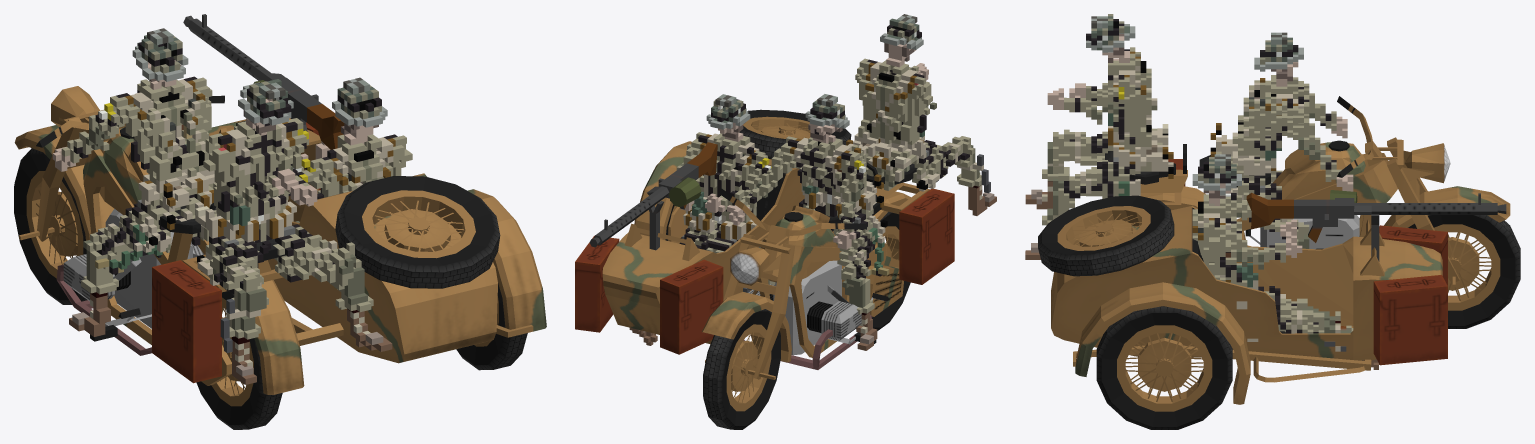
File: sidecar_german.glb
3 renders of one model, left to right at view 1: azimuth 30°, elevation 25°; view 2: azimuth 150°, elevation 25°; view 3: azimuth 270°, elevation 25°, orthographic. The views are drawn at different scales.
Visible parts, largest first — view 1: 03_chassis_sidecar_german_chassis.mesh, crew_soldier_SLOT_02_PASSENGER, crew_soldier_SLOT_00_DRIVER, crew_soldier_SLOT_01_GUNNER, 00_tire_index_1_sidecar_german_wheel.mesh, 02_tire_index_3_sidecar_german_wheel.mesh, weapon_turret_1_sidecar_german_mg.mesh, 01_tire_index_2_sidecar_german_wheel.mesh; view 2: 03_chassis_sidecar_german_chassis.mesh, crew_soldier_SLOT_00_DRIVER, crew_soldier_SLOT_02_PASSENGER, crew_soldier_SLOT_01_GUNNER, 00_tire_index_1_sidecar_german_wheel.mesh, weapon_turret_1_sidecar_german_mg.mesh, 02_tire_index_3_sidecar_german_wheel.mesh, 07_turret_sidecar_german_turret.mesh; view 3: 03_chassis_sidecar_german_chassis.mesh, crew_soldier_SLOT_02_PASSENGER, 01_tire_index_2_sidecar_german_wheel.mesh, crew_soldier_SLOT_00_DRIVER, crew_soldier_SLOT_01_GUNNER, 00_tire_index_1_sidecar_german_wheel.mesh, weapon_turret_1_sidecar_german_mg.mesh.
Part boxes in pixels (x1,y1,x2,y2): 03_chassis_sidecar_german_chassis.mesh: [14, 86, 546, 394]; crew_soldier_SLOT_02_PASSENGER: [195, 79, 392, 384]; crew_soldier_SLOT_00_DRIVER: [52, 28, 216, 336]; crew_soldier_SLOT_01_GUNNER: [293, 77, 412, 222]; 00_tire_index_1_sidecar_german_wheel.mesh: [14, 148, 87, 304]; 02_tire_index_3_sidecar_german_wheel.mesh: [196, 291, 282, 429]; weapon_turret_1_sidecar_german_mg.mesh: [183, 14, 344, 149]; 01_tire_index_2_sidecar_german_wheel.mesh: [456, 283, 527, 370]; 03_chassis_sidecar_german_chassis.mesh: [575, 109, 954, 379]; crew_soldier_SLOT_00_DRIVER: [727, 94, 889, 350]; crew_soldier_SLOT_02_PASSENGER: [846, 14, 996, 215]; crew_soldier_SLOT_01_GUNNER: [629, 94, 771, 345]; 00_tire_index_1_sidecar_german_wheel.mesh: [703, 309, 780, 429]; weapon_turret_1_sidecar_german_mg.mesh: [589, 142, 717, 247]; 02_tire_index_3_sidecar_german_wheel.mesh: [856, 211, 910, 330]; 07_turret_sidecar_german_turret.mesh: [649, 201, 663, 250]; 03_chassis_sidecar_german_chassis.mesh: [1038, 96, 1510, 404]; crew_soldier_SLOT_02_PASSENGER: [1025, 14, 1173, 259]; 01_tire_index_2_sidecar_german_wheel.mesh: [1096, 306, 1232, 429]; crew_soldier_SLOT_00_DRIVER: [1210, 32, 1353, 248]; crew_soldier_SLOT_01_GUNNER: [1192, 154, 1379, 369]; 00_tire_index_1_sidecar_german_wheel.mesh: [1408, 215, 1520, 328]; weapon_turret_1_sidecar_german_mg.mesh: [1246, 190, 1506, 242].
Bounding box in the file's own units: 1.97 × 1.92 × 2.82.
38 materials, 2 textured.
